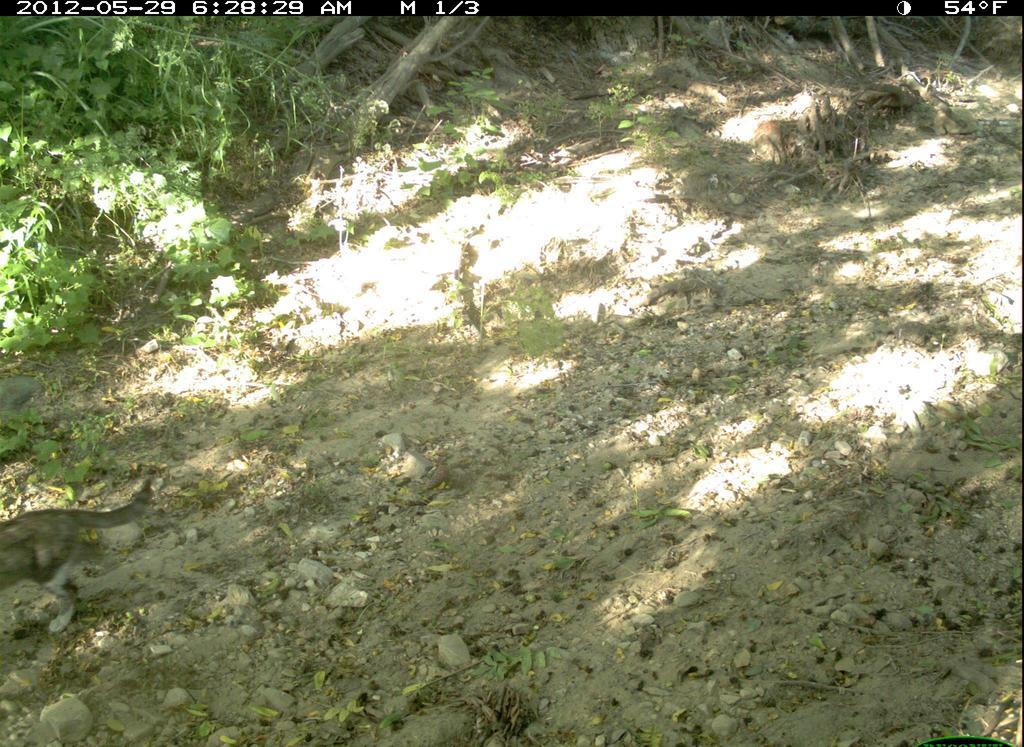cat: (1, 472, 169, 638)
